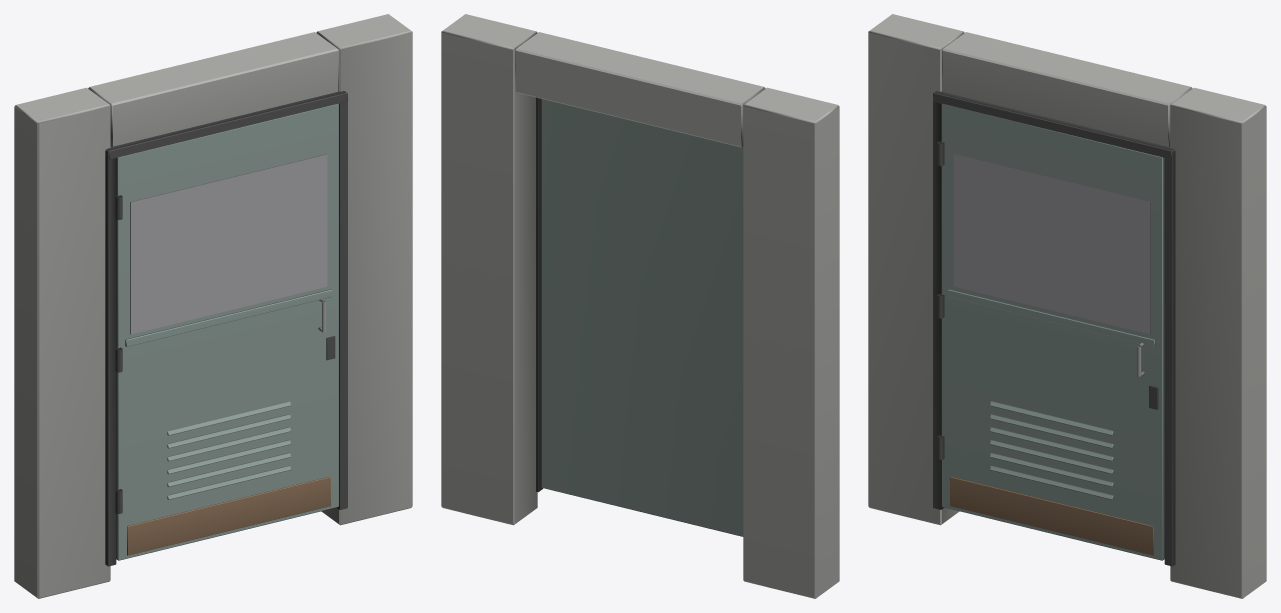
File: warning_door.glb
3 views of the same model, side by side, from view 1: azimuth 30°, elevation 25°; view 2: azimuth 150°, elevation 25°; view 3: azimuth 330°, elevation 25° (orthographic).
Visible parts, largest first — view 1: static; view 2: static; view 3: static.
Part boxes in pixels (box(x1,y1,x2,y2)): static: box(14, 14, 412, 598); static: box(441, 14, 839, 598); static: box(868, 14, 1266, 598).
Size of the model in its own units: 2.14 by 2.6 by 0.321.
